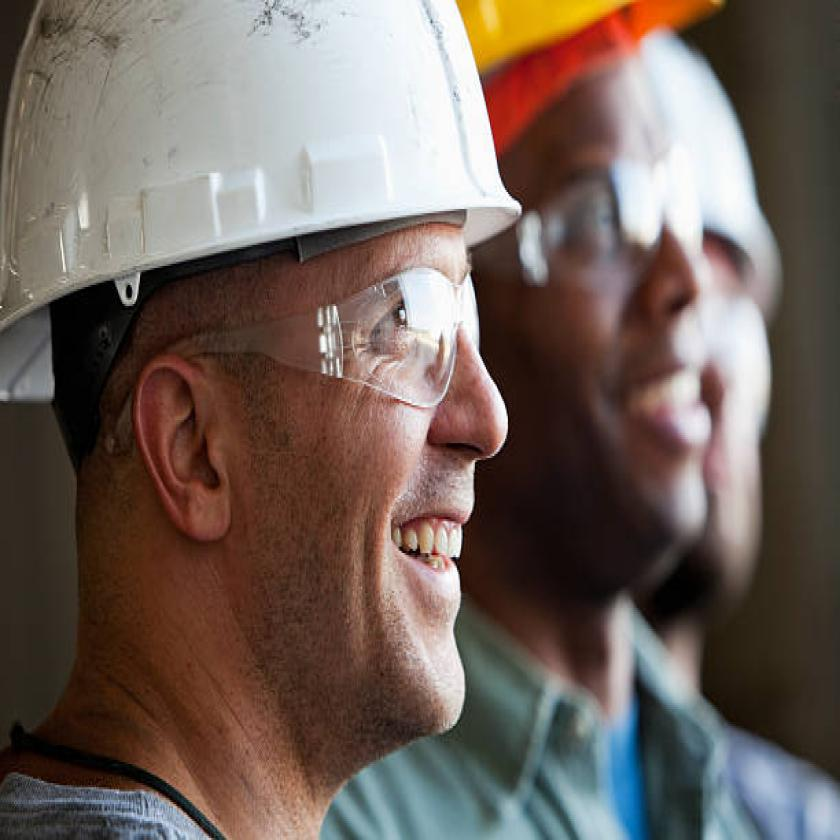Con_casco: (0, 0, 514, 751), (491, 0, 704, 564)
